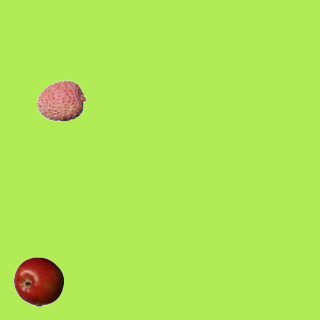Apple Braeburn: (13, 256, 63, 306)
Lychee: (36, 75, 86, 125)
